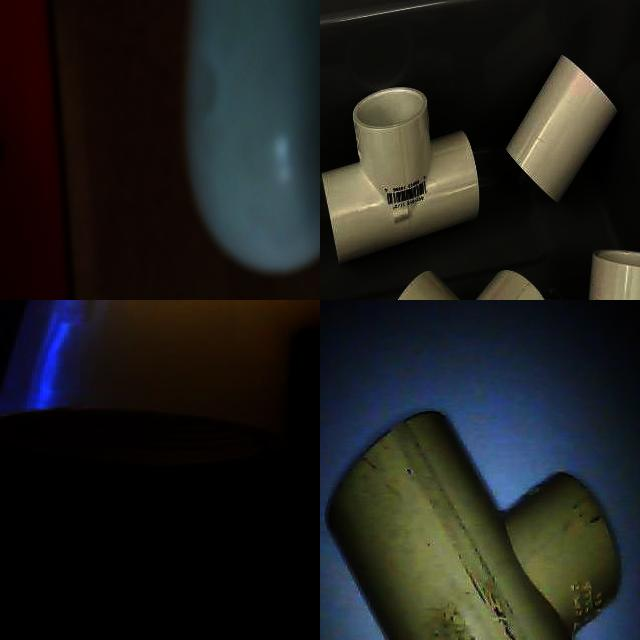Defective: (97, 86, 187, 183)
L Joint: (0, 300, 320, 470)
T Joint: (325, 411, 621, 640), (320, 87, 481, 266)
